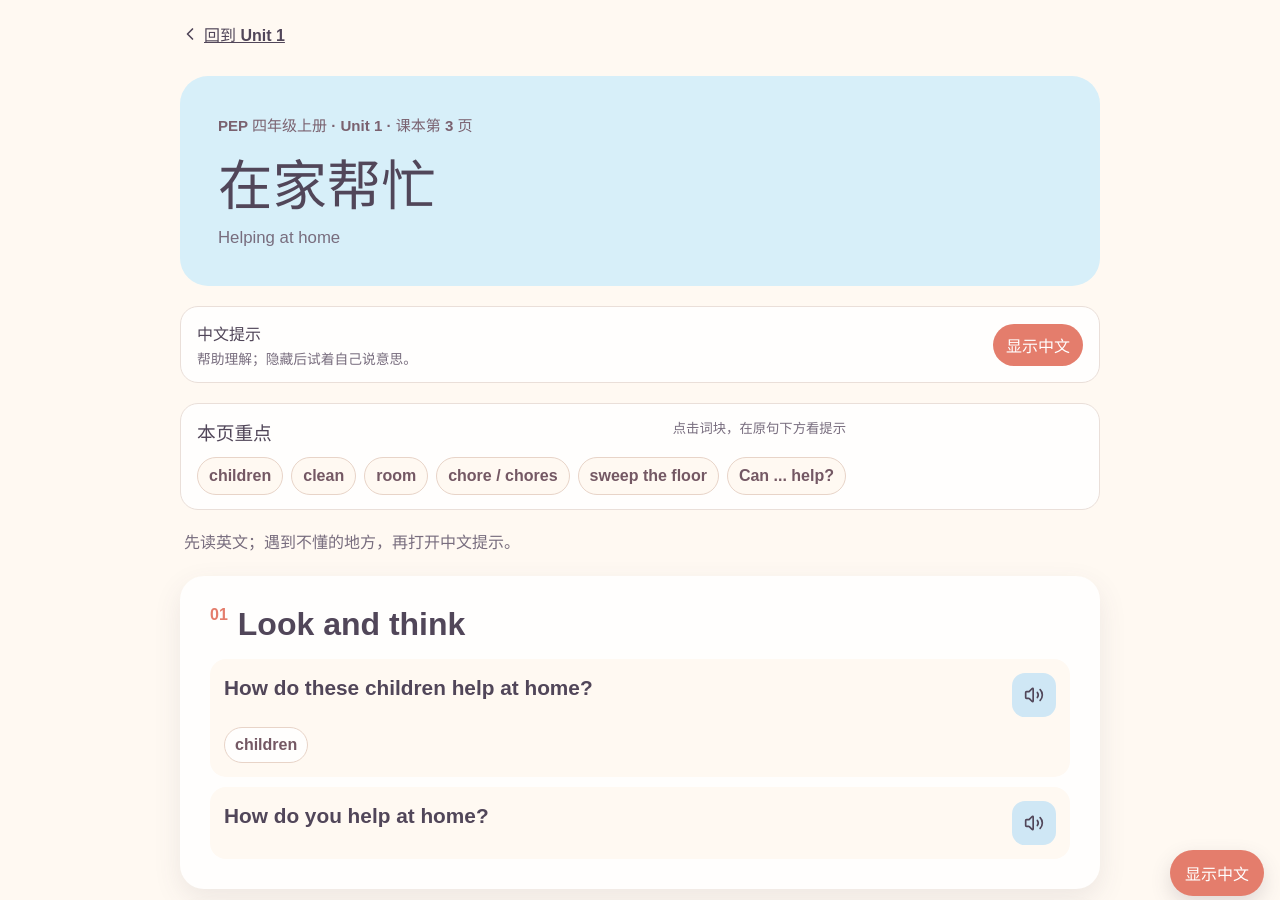
Scenario: SchoolTextbookPage › 用底部开关显示中文，且未完成小检查前不展示完成按钮
The width and height of the screenshot is (1280, 900).
Click the button "显示中文" in the row of "帮助理解；隐藏后试着自己说意思。" at (1038, 344), box [993,324,1083,366]
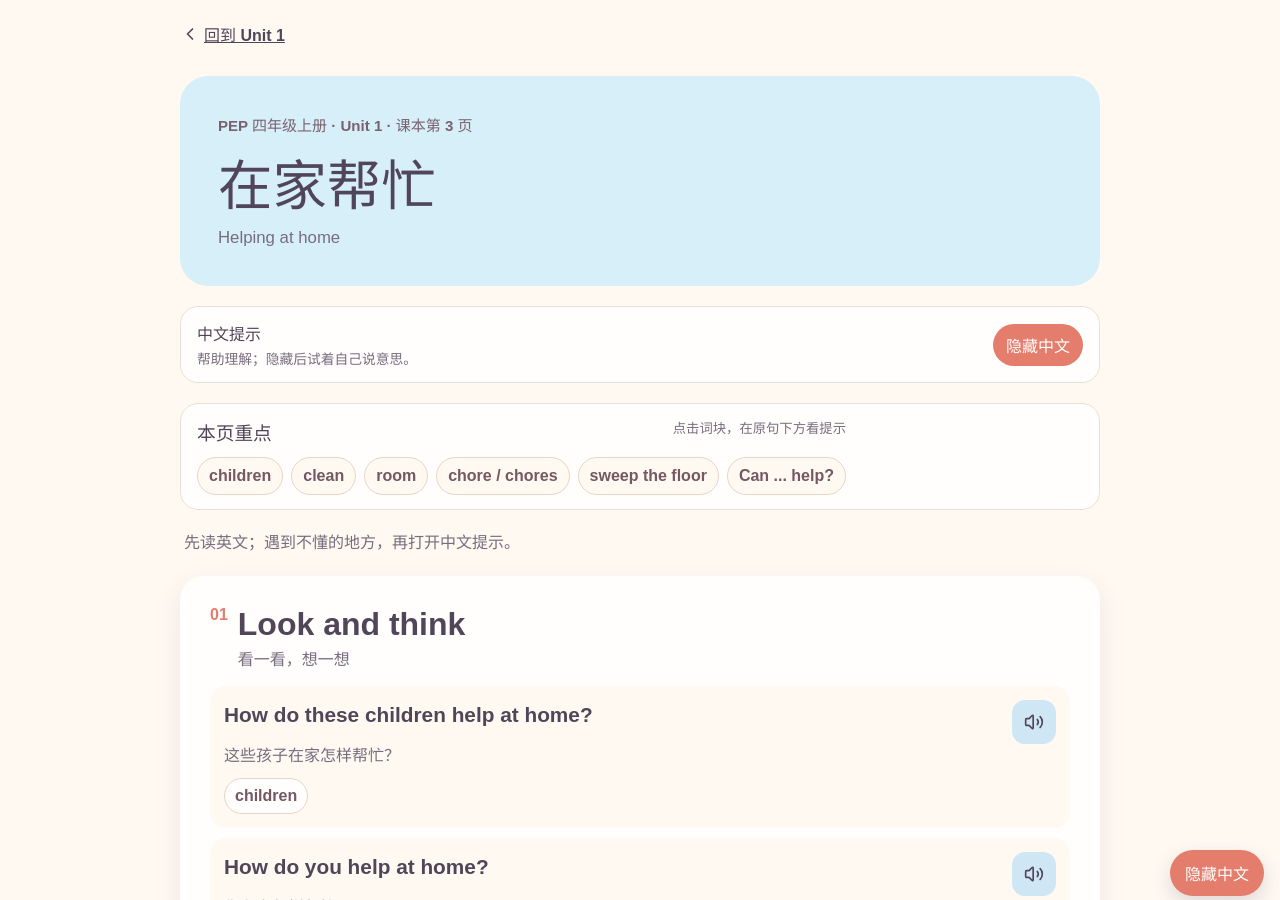
Expected: the text "这些孩子在家怎样帮忙？" is shown, [224,747,400,764]
